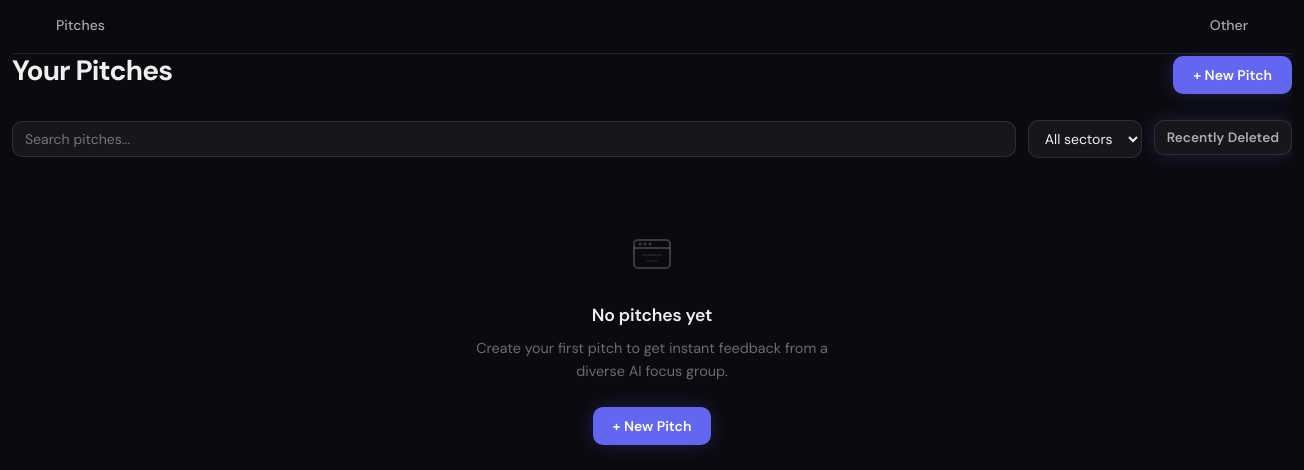
Test: PitchList › resets deleted view when navigating via nav link while on same route
This screenshot has width=1304, height=470.
Expected: the heading "No pitches yet" is shown, [592, 301, 712, 329]
Toggle to deleted view
Step 1. Click the button "Recently Deleted" → x=1223, y=137, box [1154, 120, 1292, 155]
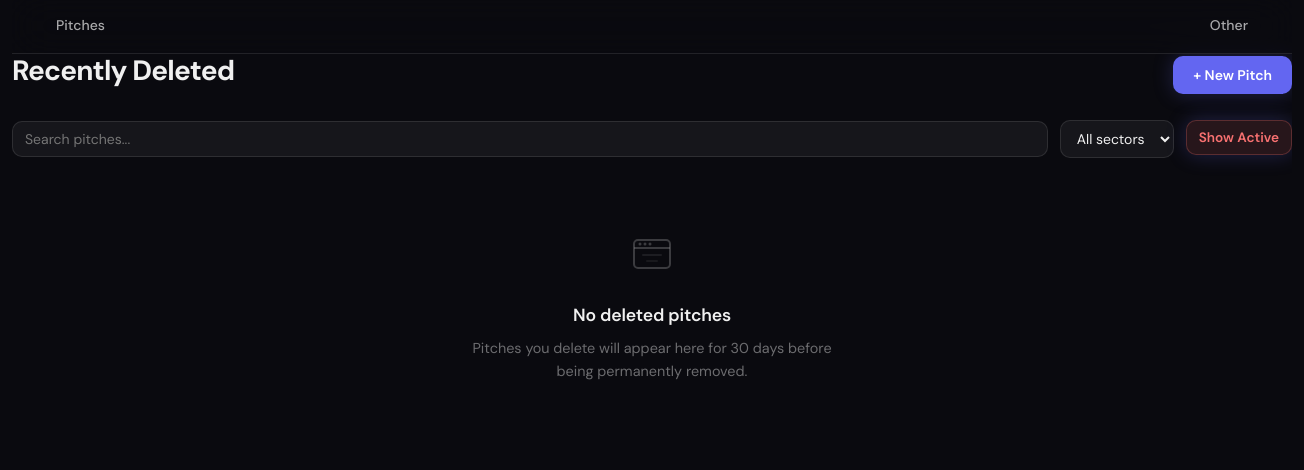
Now the heading "Recently Deleted" is shown, box [12, 54, 234, 88]
Click the "Pitches" nav link while already on "/" — component stays mounted
Step 2. Click the link "Pitches" → x=80, y=25, box [56, 16, 105, 34]
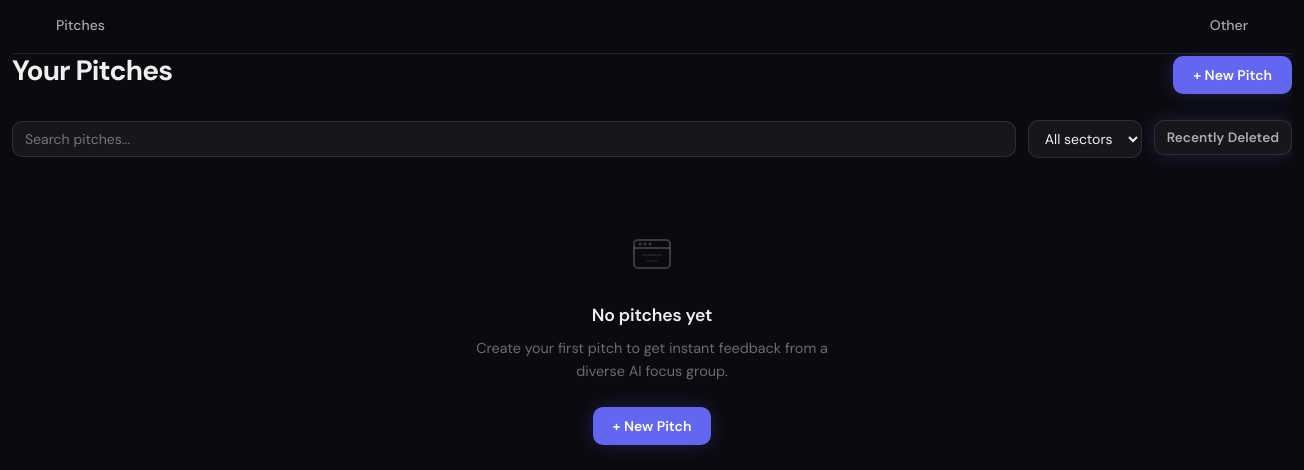
Now the heading "Your Pitches" is shown, box [12, 54, 172, 88]
